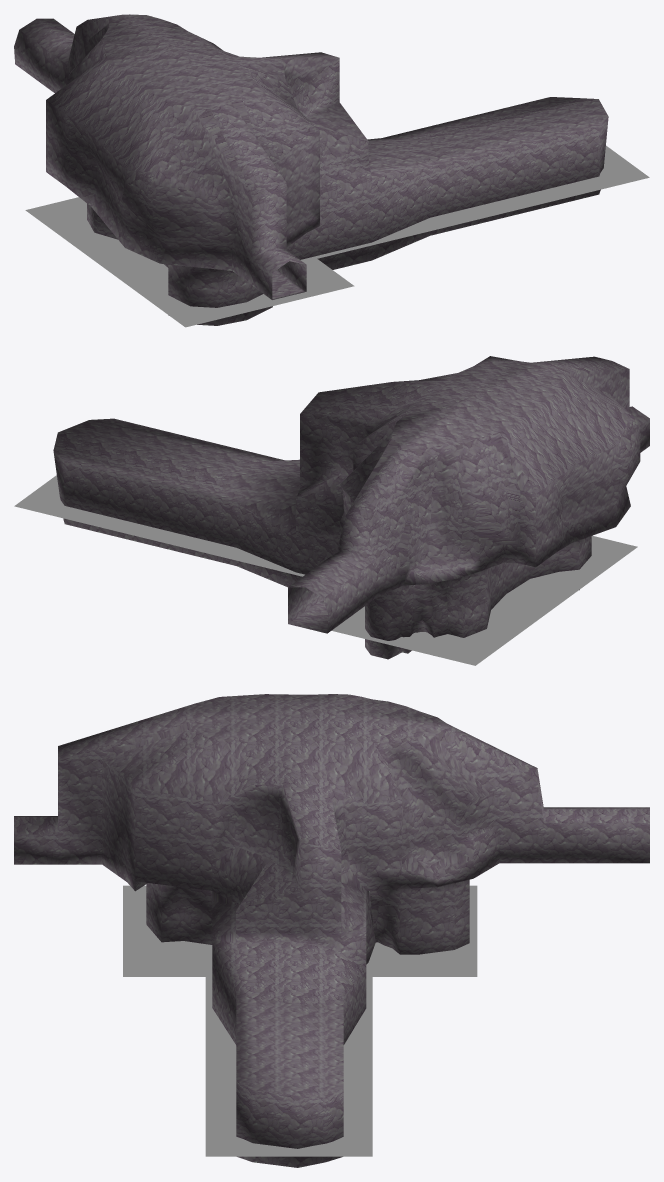
The picture shows the model from 3 angles, top to bottom: view 1: azimuth 30°, elevation 25°; view 2: azimuth 150°, elevation 25°; view 3: azimuth 270°, elevation 25°; orthographic projection. The views are drawn at different scales.
Parts seen in each view (by area): view 1: Ld03, lave; view 2: Ld03, lave; view 3: Ld03, lave.
Part boxes in pixels (x1=…): Ld03: x1=14, y1=14, x2=608, y2=325; lave: x1=25, y1=145, x2=649, y2=327; Ld03: x1=53, y1=356, x2=649, y2=659; lave: x1=14, y1=475, x2=637, y2=665; Ld03: x1=14, y1=694, x2=649, y2=1167; lave: x1=123, y1=885, x2=477, y2=1156.
Size of the model in its own units: 6114 by 2384 by 5768.
